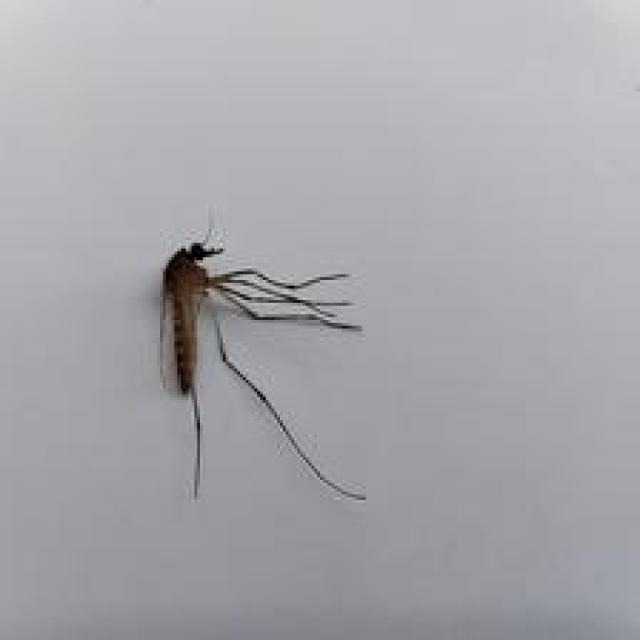Culex: (156, 217, 367, 503)
